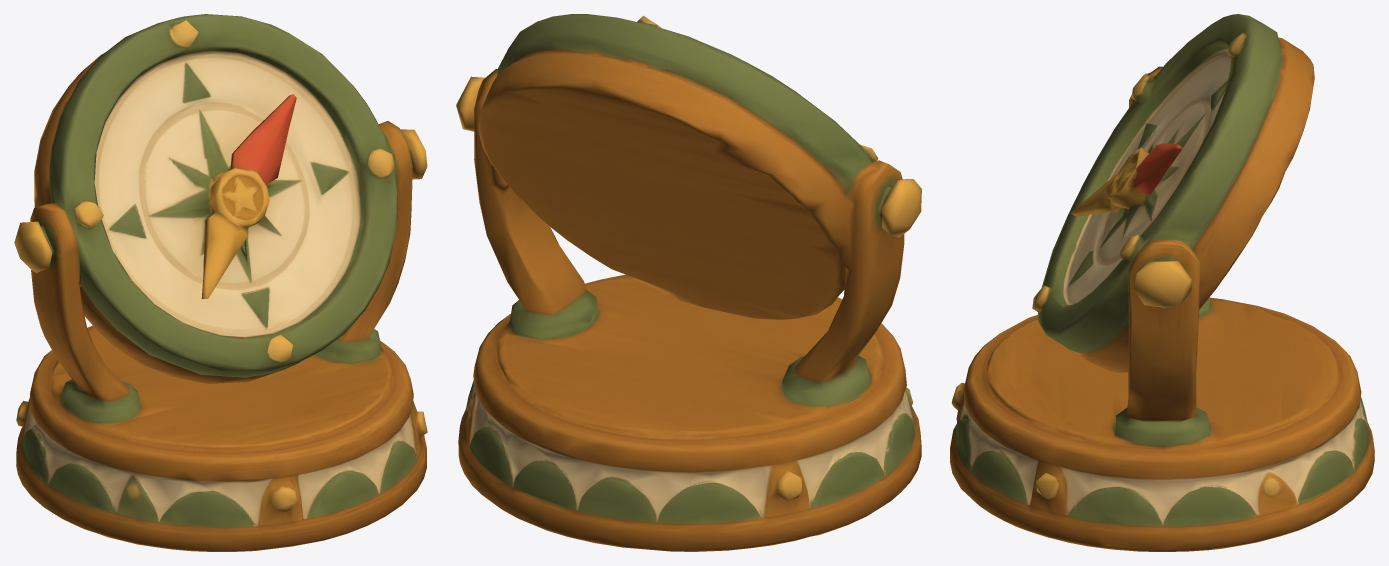
Rendered from practice-compass.glb.
The picture shows the model from 3 angles, left to right: view 1: azimuth 30°, elevation 25°; view 2: azimuth 150°, elevation 25°; view 3: azimuth 270°, elevation 25°; orthographic projection. The views are drawn at different scales.
Visible parts, largest first — view 1: tripo_node_449945f6-3591-4171-aef8-91eb2683dadb; view 2: tripo_node_449945f6-3591-4171-aef8-91eb2683dadb; view 3: tripo_node_449945f6-3591-4171-aef8-91eb2683dadb.
Part boxes in pixels (x1,y1,x2,y2): tripo_node_449945f6-3591-4171-aef8-91eb2683dadb: (14,14,427,551); tripo_node_449945f6-3591-4171-aef8-91eb2683dadb: (456,14,921,551); tripo_node_449945f6-3591-4171-aef8-91eb2683dadb: (950,14,1374,551).
Size of the model in its own units: 1 by 1 by 0.8935.
1 material, 1 textured.
